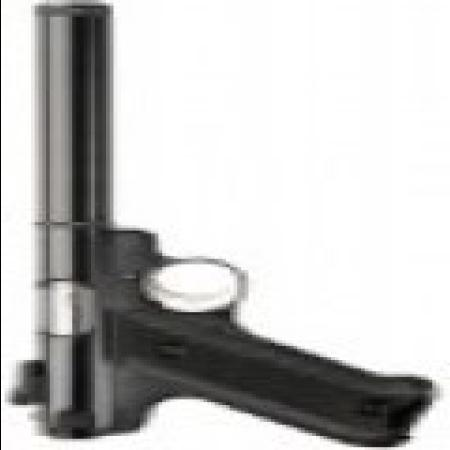Pistol: (8, 12, 420, 436)
